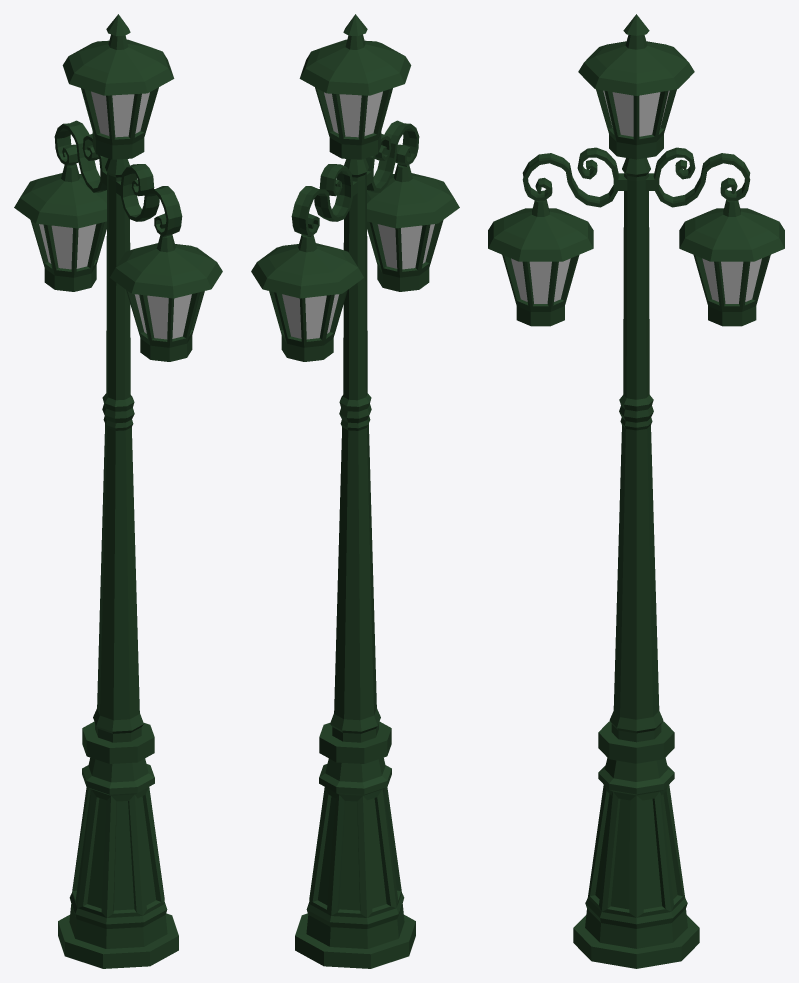
Rendered from Streetlight_Triple.glb.
3 views of the same model, side by side, from view 1: azimuth 30°, elevation 25°; view 2: azimuth 150°, elevation 25°; view 3: azimuth 270°, elevation 25° (orthographic).
Parts seen in each view (by area): view 1: Streetlight_Triple.obj; view 2: Streetlight_Triple.obj; view 3: Streetlight_Triple.obj.
Part boxes in pixels (<box>): Streetlight_Triple.obj: <box>14,14,222,968</box>; Streetlight_Triple.obj: <box>251,14,459,968</box>; Streetlight_Triple.obj: <box>488,14,784,968</box>.
Size of the model in its own units: 0.1317 by 1.09 by 0.3157.
